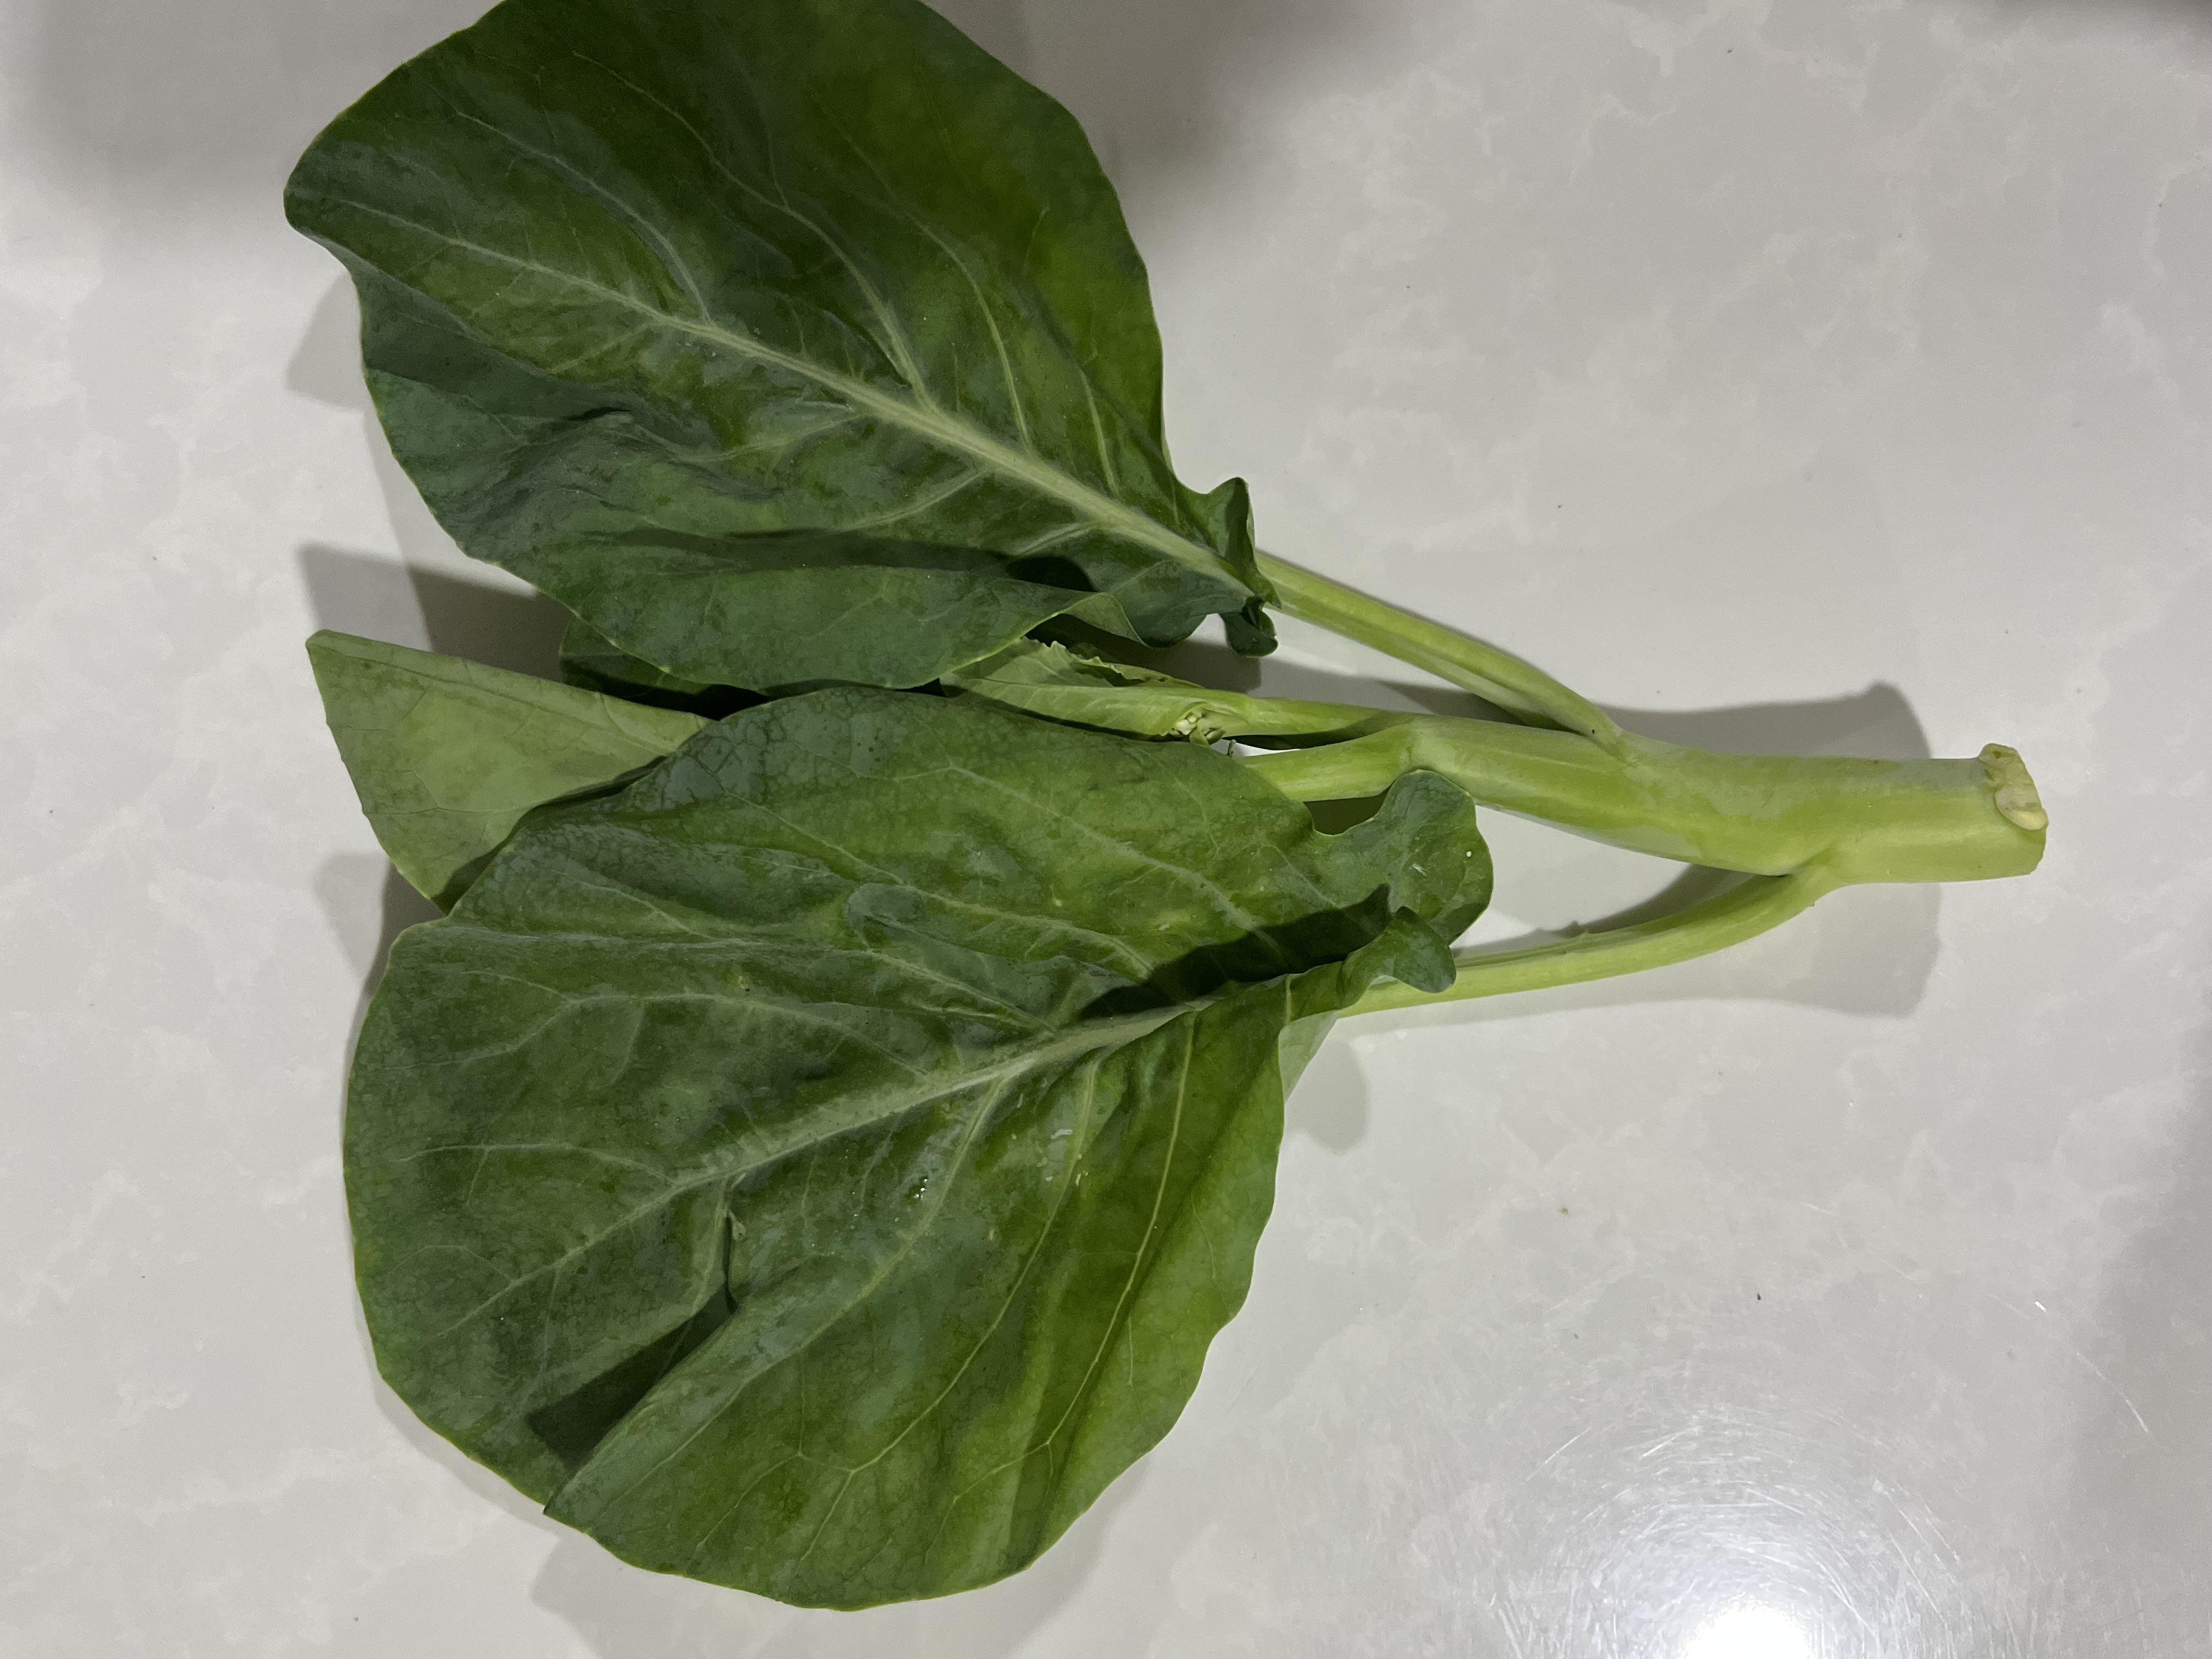Healthy-Pechay: (54, 10, 1728, 1432)
